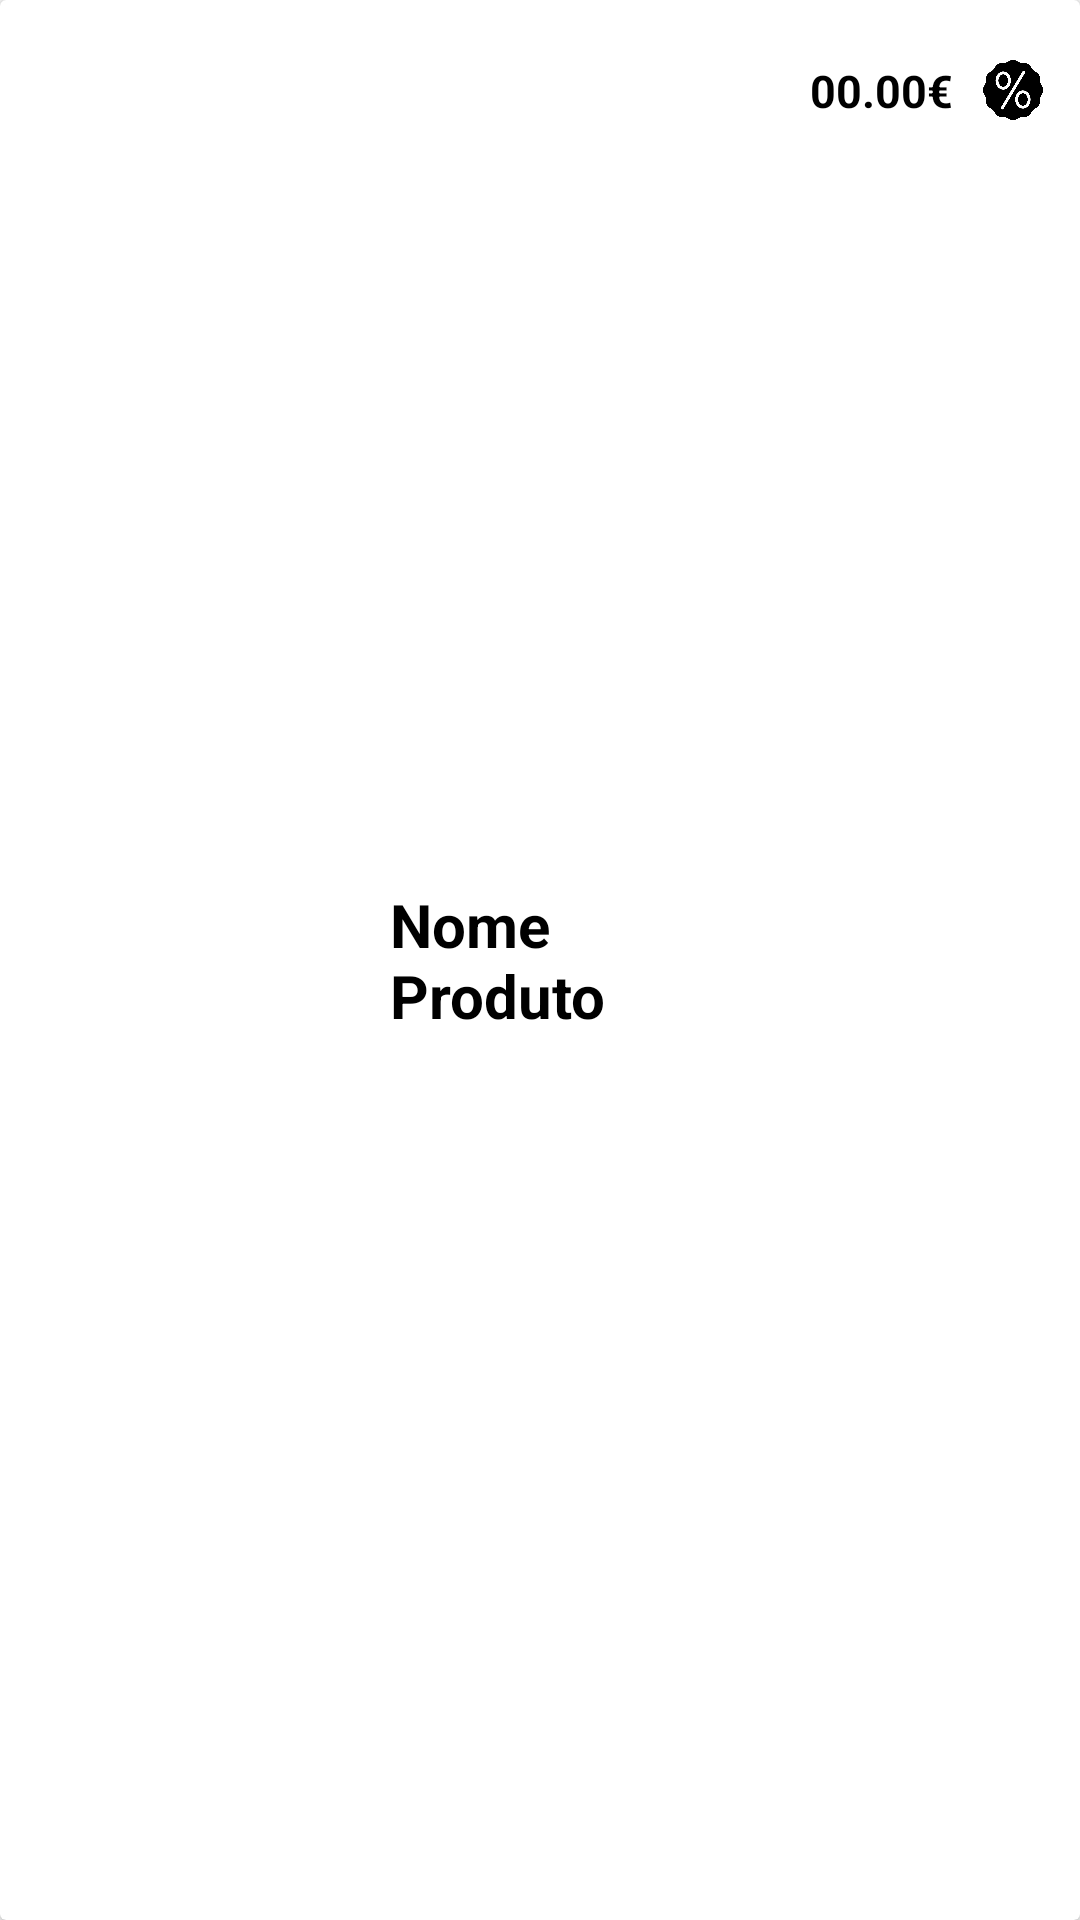

Icons on this 1080*1920 Android screen, each with the point to tap as point (x, y):
descontos: point (1013, 90)
